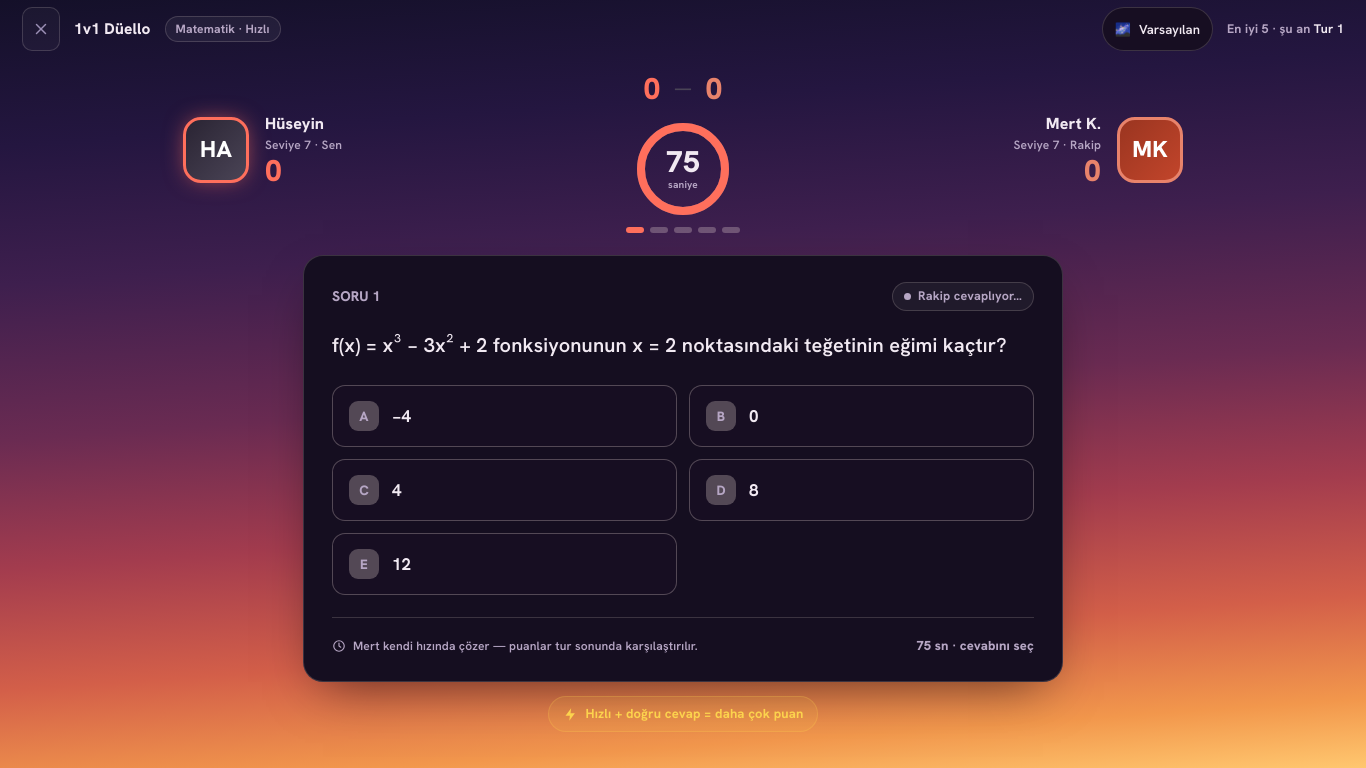
Test: DuelloPage › reveal: doğru + hızlı cevap → tur bandı "Turu kazandın!" (turSonucu SUNUCUDAN)
Check: the text "1v1 Düello" is shown, box top-left (74, 17), bottom-right (150, 41)
Step 1. Click the button "B 0" → coordinates (721, 416), box top-left (689, 385), bottom-right (1034, 447)
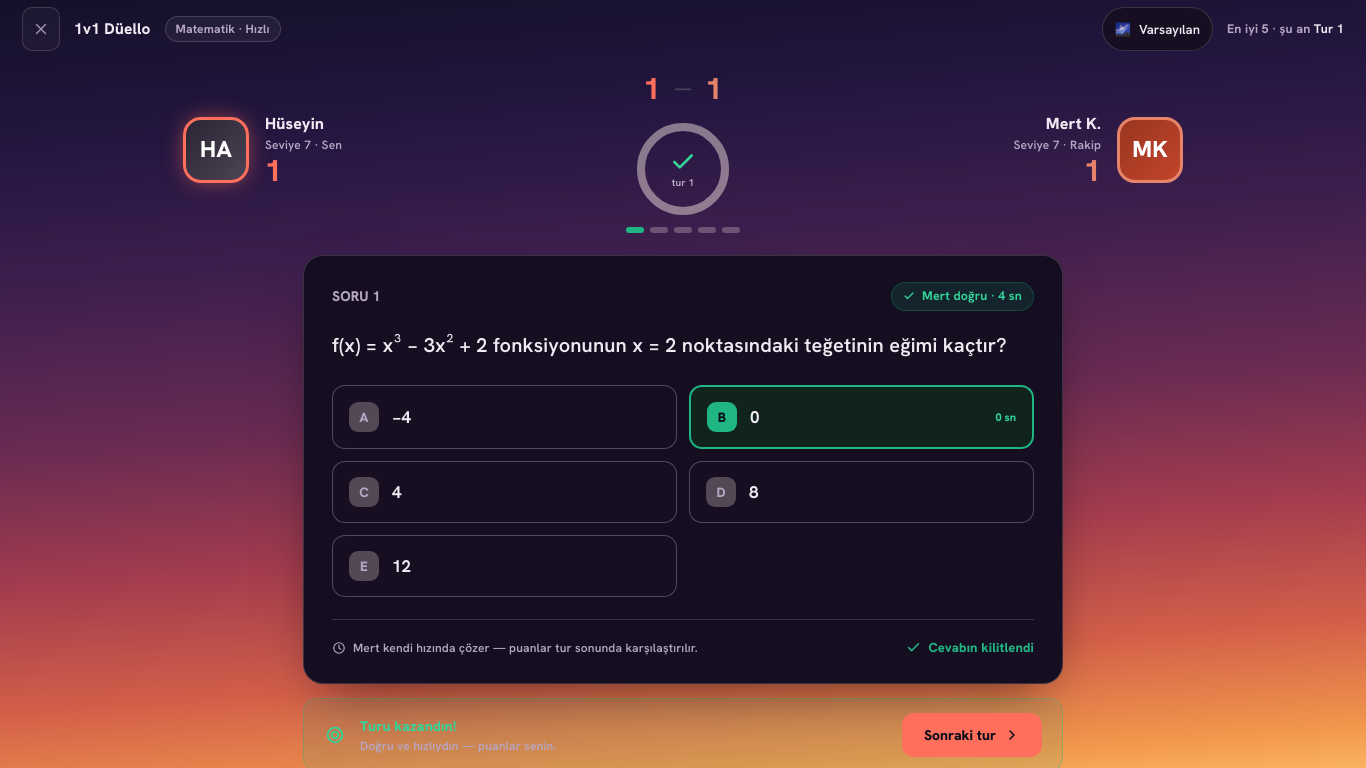
Check: the text "Turu kazandın!" is shown, box top-left (360, 717), bottom-right (456, 735)
Check: the text "Doğru ve hızlıydın — puanlar senin." is shown, box top-left (360, 738), bottom-right (556, 754)
